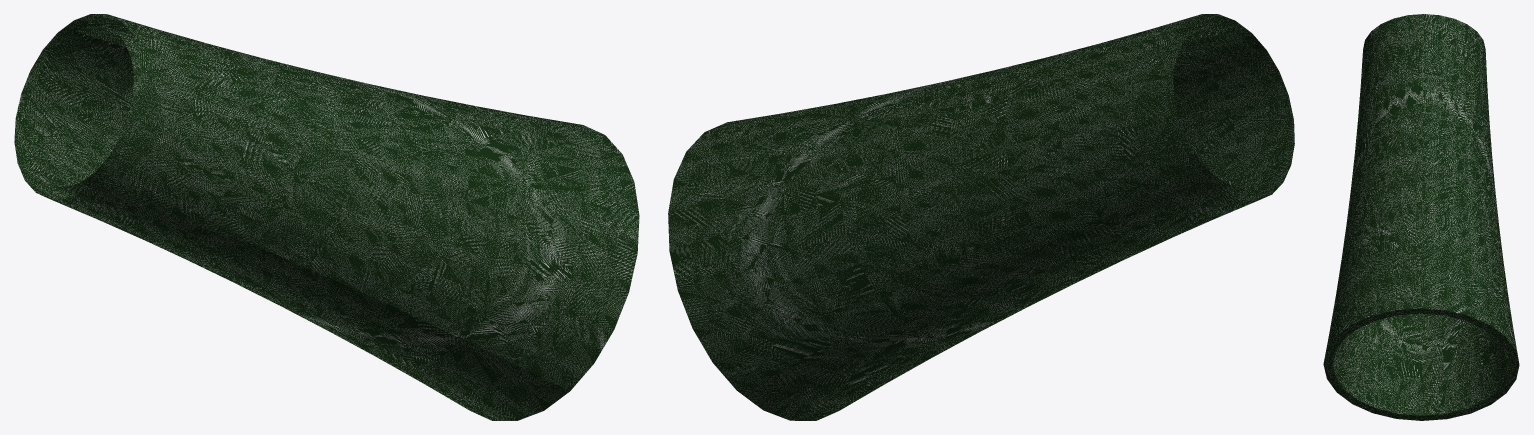
The model's file is original-9.obj.
The picture shows the model from 3 angles, left to right: view 1: azimuth 30°, elevation 25°; view 2: azimuth 150°, elevation 25°; view 3: azimuth 270°, elevation 25°; orthographic projection. The views are drawn at different scales.
Visible parts, largest first — view 1: mesh19/mesh19-geometry#mesh19-geometry; view 2: mesh19/mesh19-geometry#mesh19-geometry; view 3: mesh19/mesh19-geometry#mesh19-geometry.
Boxes of the visible parts, <box> form: mesh19/mesh19-geometry#mesh19-geometry: <box>14,14,639,420</box>; mesh19/mesh19-geometry#mesh19-geometry: <box>668,14,1294,420</box>; mesh19/mesh19-geometry#mesh19-geometry: <box>1323,14,1519,420</box>.
Size of the model in its own units: 0.4439 by 0.3551 by 0.2106.
